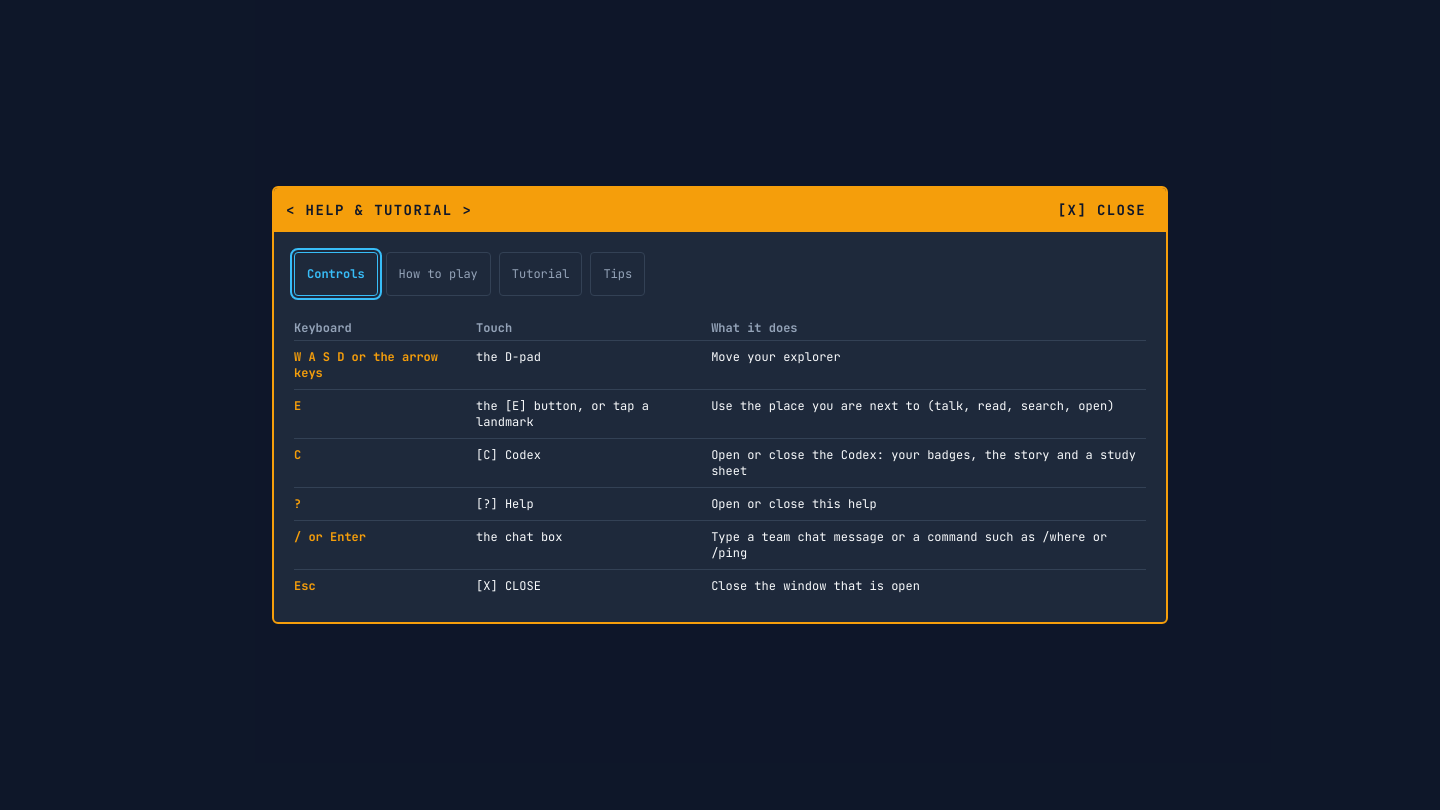
Test: Help › each tab shows its own content
Click the tab "How to play". click: (438, 274)
box: [386,252,491,296]
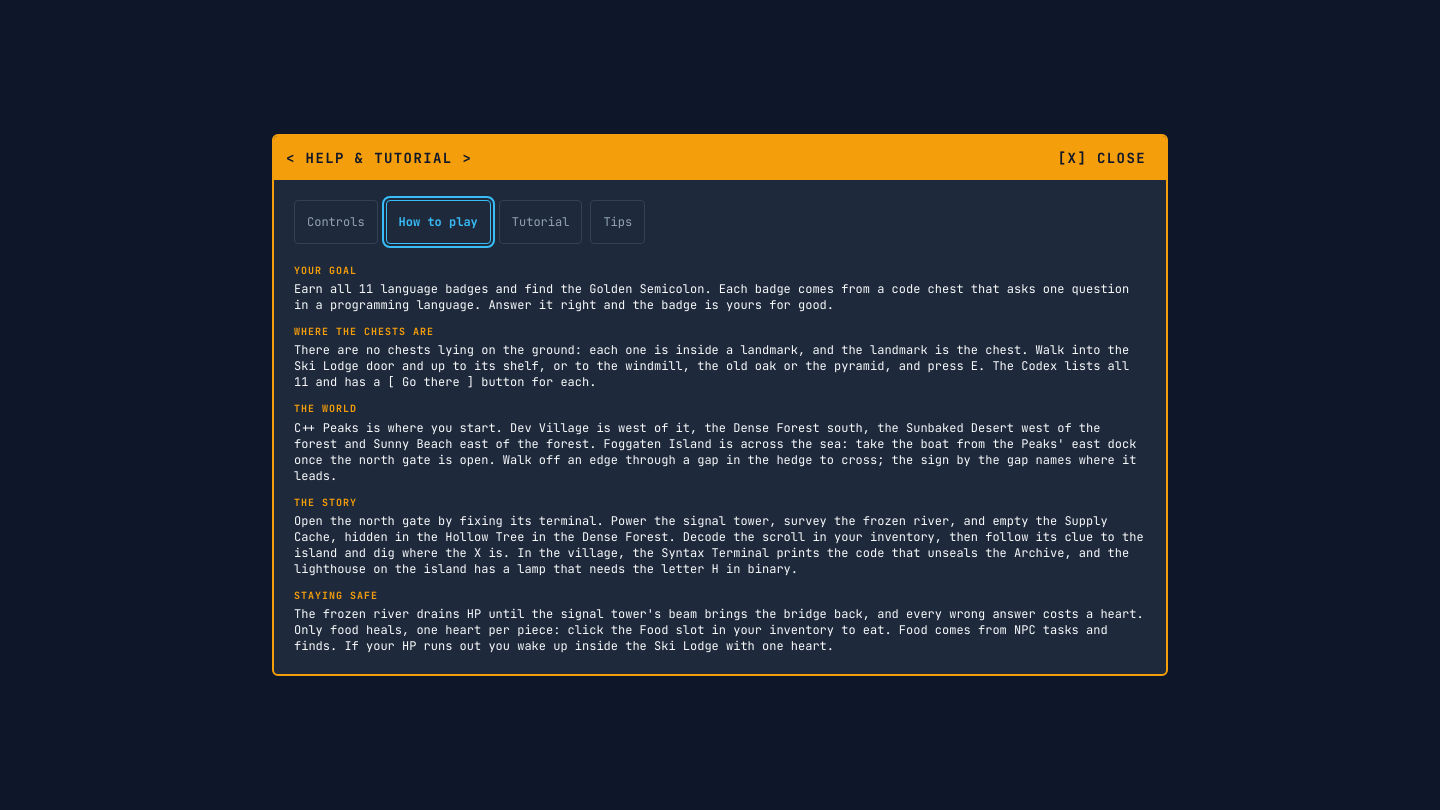
Now the element "Your goal" shows "all 11 language badges", box [294,281,1129,313]
Now the element "Where the chests are" shows "the landmark is the chest", box [294,342,1129,390]
Click the tab "Tips". click: (618, 222)
box: [590,200,645,244]
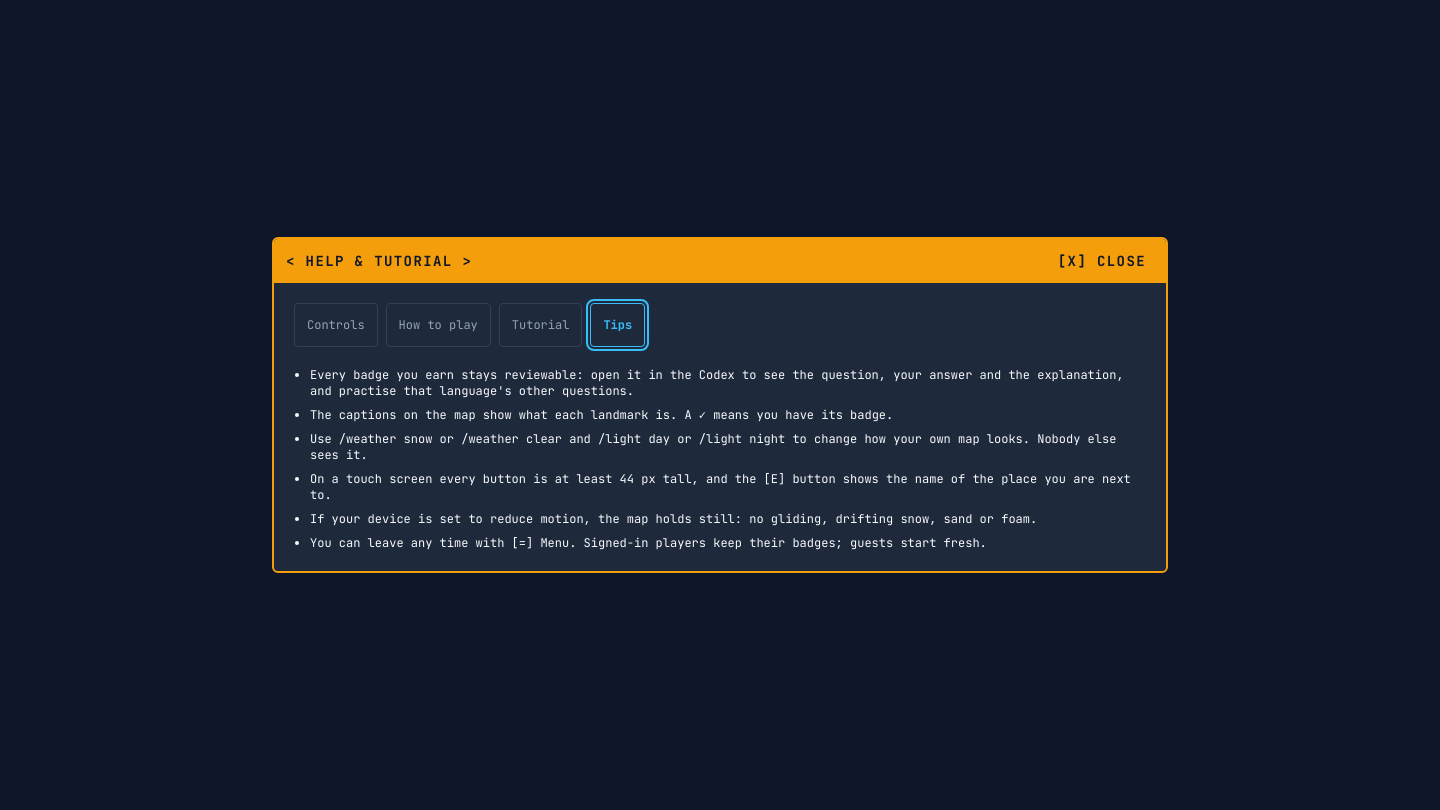
Now the panel shows "reduce motion", box [310,511,1037,527]
Click the tab "Controls". click: (336, 325)
box: [294,303,378,347]
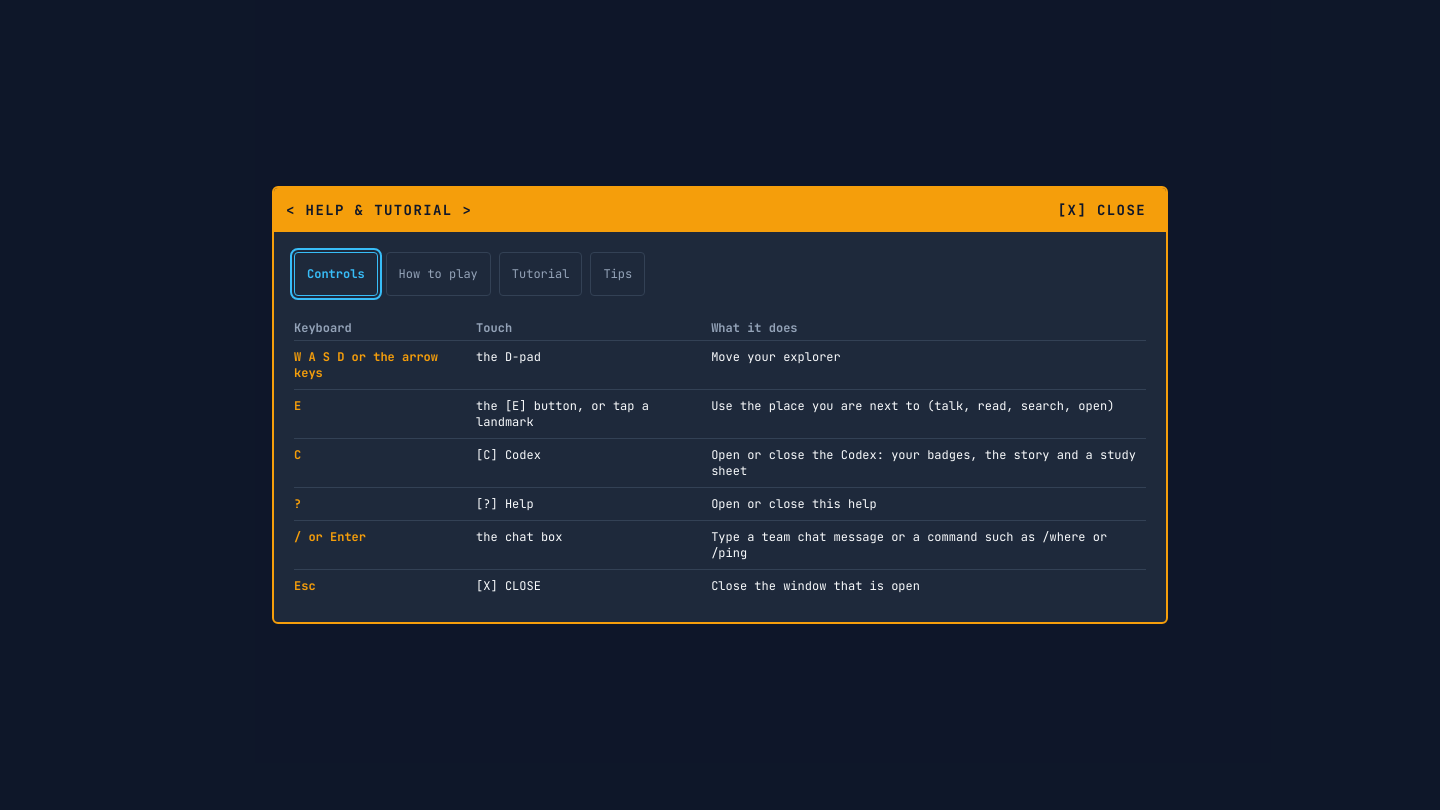
Now the panel shows "Move your explorer", box [711,349,841,365]
